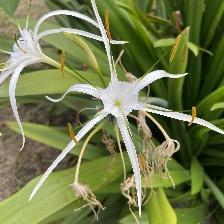spider lily: (29, 2, 224, 218)
